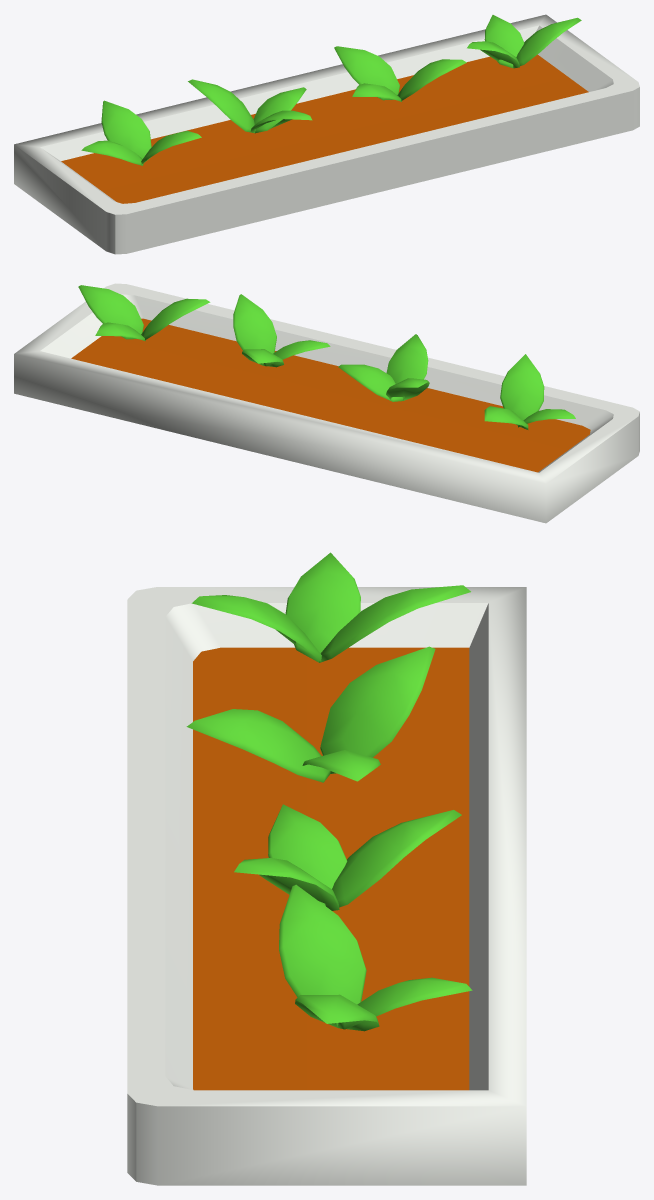
Rendered from TreeTub3.fbx.
The picture shows the model from 3 angles, top to bottom: view 1: azimuth 30°, elevation 25°; view 2: azimuth 150°, elevation 25°; view 3: azimuth 270°, elevation 25°; orthographic projection. The views are drawn at different scales.
Visible parts, largest first — view 1: TreeTub.002; view 2: TreeTub.002; view 3: TreeTub.002.
Boxes of the visible parts, <box> form: TreeTub.002: <box>14,14,639,254</box>; TreeTub.002: <box>14,283,639,523</box>; TreeTub.002: <box>127,552,526,1185</box>.
Size of the model in its own units: 500 by 76.19 by 162.
Materials: 1 (1 with a texture image).
